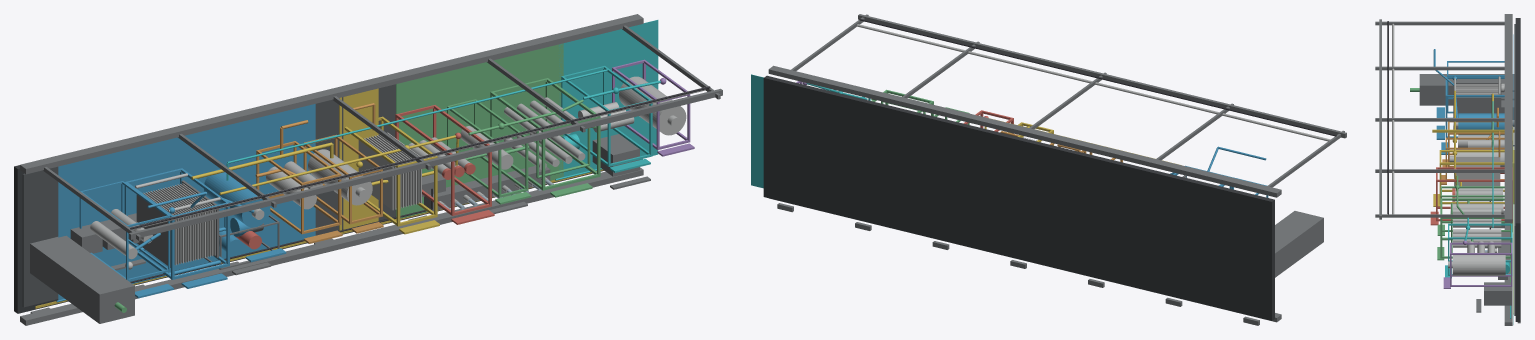
The model's file is eden_engine_compact_pilot_alpha_skid.glb.
The picture shows the model from 3 angles, left to right: view 1: azimuth 30°, elevation 25°; view 2: azimuth 150°, elevation 25°; view 3: azimuth 270°, elevation 25°; orthographic projection. The views are drawn at different scales.
Parts seen in each view (by area): view 1: ZONE_DIRTY_SIDE_FLOOR_BLUE, ZONE_CLEAN_SIDE_FLOOR_GREEN, rear_service_rail, ZONE_PRODUCT_SIDE_FLOOR_CYAN_PURPLE, raised_grating_floor_panel, support_controls_cabinet_main_HMI, back_overhead_cable_tray, front_service_rail, ZONE_FIREWALL_FLOOR_YELLOW, base_black_steel_skid_deck, overhead_signal_cable_black_seg1, sample_port_rail_base (+18 smaller); view 2: base_black_steel_skid_deck, rear_service_rail, back_overhead_cable_tray, support_controls_cabinet_main_HMI, overhead_common_pipe_silver_seg1, ZONE_PRODUCT_SIDE_FLOOR_CYAN_PURPLE, overhead_signal_cable_black_seg1, back_pipe_rack_post_-4.5, back_pipe_rack_post_2.4, back_pipe_rack_post_-2.4, back_pipe_rack_post_0.0, front_service_rail (+1 smaller); view 3: rear_service_rail, base_black_steel_skid_deck, support_controls_cabinet_main_HMI, syrup_storage_vertical_tank, electrolyzer_endplate_right, electrolyte_loop_blue_tank, back_pipe_rack_post_-4.5, back_pipe_rack_post_-2.4, safety_interlock_system_box, formate_shuttle_membrane_plate_12, back_overhead_cable_tray, raised_grating_floor_panel (+45 smaller).
Boxes of the visible parts, left/top/right/bottom form: ZONE_DIRTY_SIDE_FLOOR_BLUE: left=58, top=104, right=315, bottom=300; ZONE_CLEAN_SIDE_FLOOR_GREEN: left=396, top=43, right=563, bottom=216; rear_service_rail: left=20, top=14, right=643, bottom=174; ZONE_PRODUCT_SIDE_FLOOR_CYAN_PURPLE: left=559, top=20, right=658, bottom=177; raised_grating_floor_panel: left=22, top=84, right=395, bottom=307; support_controls_cabinet_main_HMI: left=30, top=235, right=134, bottom=323; back_overhead_cable_tray: left=129, top=88, right=722, bottom=239; front_service_rail: left=20, top=167, right=643, bottom=325; ZONE_FIREWALL_FLOOR_YELLOW: left=343, top=88, right=378, bottom=229; base_black_steel_skid_deck: left=14, top=165, right=604, bottom=313; overhead_signal_cable_black_seg1: left=130, top=86, right=710, bottom=229; sample_port_rail_base: left=424, top=166, right=550, bottom=211; base_black_steel_skid_deck: left=763, top=75, right=1274, bottom=320; rear_service_rail: left=768, top=65, right=1281, bottom=197; back_overhead_cable_tray: left=858, top=14, right=1346, bottom=138; support_controls_cabinet_main_HMI: left=1275, top=211, right=1323, bottom=277; overhead_common_pipe_silver_seg1: left=857, top=24, right=1330, bottom=141; ZONE_PRODUCT_SIDE_FLOOR_CYAN_PURPLE: left=751, top=74, right=763, bottom=188; overhead_signal_cable_black_seg1: left=859, top=19, right=1336, bottom=136; back_pipe_rack_post_-4.5: left=1267, top=130, right=1344, bottom=187; back_pipe_rack_post_2.4: left=902, top=41, right=979, bottom=98; back_pipe_rack_post_-2.4: left=1156, top=103, right=1233, bottom=160; back_pipe_rack_post_0.0: left=1029, top=72, right=1106, bottom=129; front_service_rail: left=769, top=198, right=1281, bottom=322; rear_service_rail: left=1504, top=14, right=1512, bottom=222; base_black_steel_skid_deck: left=1515, top=18, right=1520, bottom=321; support_controls_cabinet_main_HMI: left=1419, top=74, right=1514, bottom=105; syrup_storage_vertical_tank: left=1452, top=255, right=1505, bottom=275; electrolyzer_endplate_right: left=1453, top=97, right=1501, bottom=129; electrolyte_loop_blue_tank: left=1458, top=113, right=1504, bottom=135; back_pipe_rack_post_-4.5: left=1375, top=21, right=1504, bottom=25; back_pipe_rack_post_-2.4: left=1375, top=66, right=1504, bottom=70; safety_interlock_system_box: left=1484, top=282, right=1511, bottom=305; formate_shuttle_membrane_plate_12: left=1454, top=166, right=1500, bottom=186; back_overhead_cable_tray: left=1379, top=19, right=1381, bottom=219; raised_grating_floor_panel: left=1514, top=24, right=1515, bottom=315.
Size of the model in its own units: 9.93 by 2.39 by 2.88.
